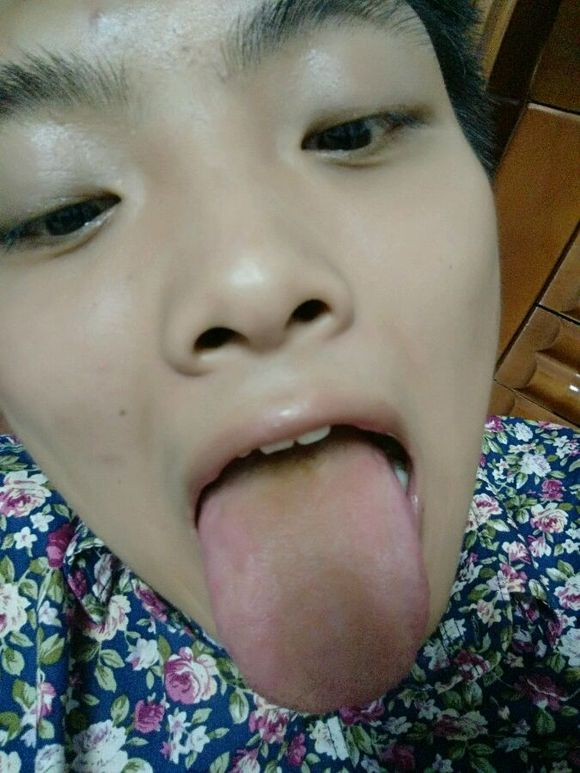huangtaishe: (200, 434, 432, 714)
